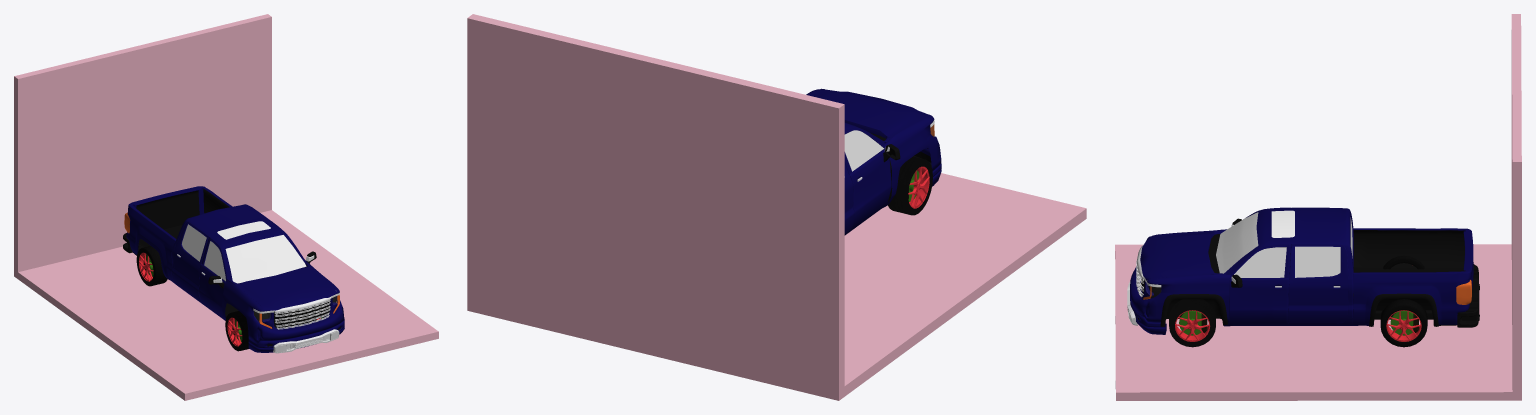
Rendered from car3.glb.
The picture shows the model from 3 angles, left to right: view 1: azimuth 30°, elevation 25°; view 2: azimuth 150°, elevation 25°; view 3: azimuth 270°, elevation 25°; orthographic projection. The views are drawn at different scales.
Visible parts, largest first — view 1: model.001, polySurface14724, Cube.001, prepare_for_client_30:prepare_for_client_09:polySurface1, polySurface14724.002, polySurface14822.001, prepare_for_client_30:prepare_for_client_09:for_client:_e210, brake-disc.001, prepare_for_client_30:prepare_for_client_09:for_client:_db64, prepare_for_client_30:for_client:polySurface3177, prepare_for_client_30:prepare_for_client_09:for_client:_6ce8, polySurface14724.003; view 2: model.001, Cube.001, prepare_for_client_30:prepare_for_client_09:polySurface1, polySurface14724, brake-disc.001; view 3: model.001, Cube.001, polySurface14724, polySurface14822.001, prepare_for_client_30:prepare_for_client_09:for_client:_e210, brake-disc.001, prepare_for_client_30:prepare_for_client_09:polySurface1, polySurface14724.002, polySurface14664, polySurface14576, polySurface14724.003, polySurface14822.
Part boxes in pixels (x1,y1,x2,y2): model.001: (14,14,438,400); polySurface14724: (171,204,344,352); Cube.001: (173,215,302,319); prepare_for_client_30:prepare_for_client_09:polySurface1: (229,261,336,311); polySurface14724.002: (225,235,306,283); polySurface14822.001: (136,189,229,247); prepare_for_client_30:prepare_for_client_09:for_client:_e210: (126,186,232,284); brake-disc.001: (136,246,326,351); prepare_for_client_30:prepare_for_client_09:for_client:_db64: (274,300,330,329); prepare_for_client_30:for_client:polySurface3177: (267,296,336,326); prepare_for_client_30:prepare_for_client_09:for_client:_6ce8: (273,329,339,353); polySurface14724.003: (217,221,270,239); model.001: (467,14,1086,400); Cube.001: (844,127,891,233); prepare_for_client_30:prepare_for_client_09:polySurface1: (809,89,928,142); polySurface14724: (806,88,941,235); brake-disc.001: (887,156,932,215); model.001: (1115,14,1521,400); Cube.001: (1229,207,1348,323); polySurface14724: (1130,207,1353,334); polySurface14822.001: (1353,230,1465,310); prepare_for_client_30:prepare_for_client_09:for_client:_e210: (1352,228,1471,325); brake-disc.001: (1169,256,1427,347); prepare_for_client_30:prepare_for_client_09:polySurface1: (1140,229,1225,280); polySurface14724.002: (1216,212,1258,273); polySurface14664: (1160,293,1438,326); polySurface14576: (1457,264,1479,327); polySurface14724.003: (1271,210,1294,237); polySurface14822: (1463,231,1473,289).
Bounding box in the file's own units: 15.78 × 11.85 × 18.3.
13 materials, 2 textured.
